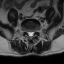CCS_normal: (29, 29, 31, 37)
LFS_stenosis: (34, 29, 36, 34)
LLS_normal: (32, 29, 34, 36)
RFS_severe_stenosis: (25, 29, 27, 34)
RLS_normal: (27, 30, 29, 35)
